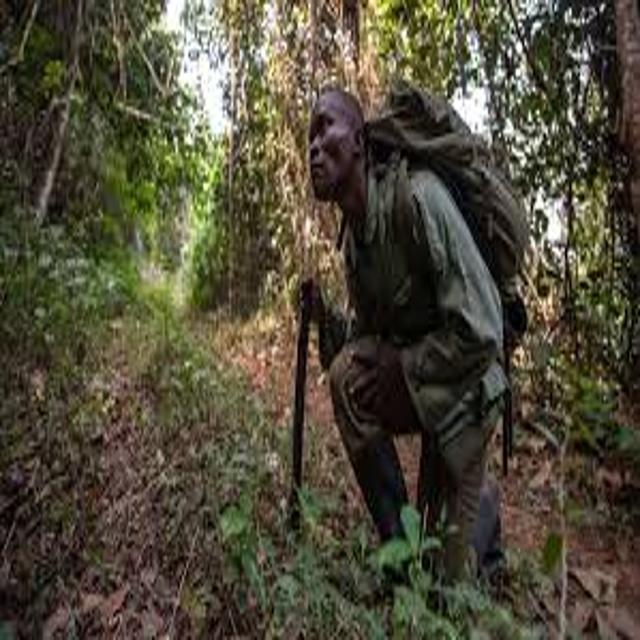bag: (335, 64, 550, 348)
poacher: (215, 61, 578, 606)
